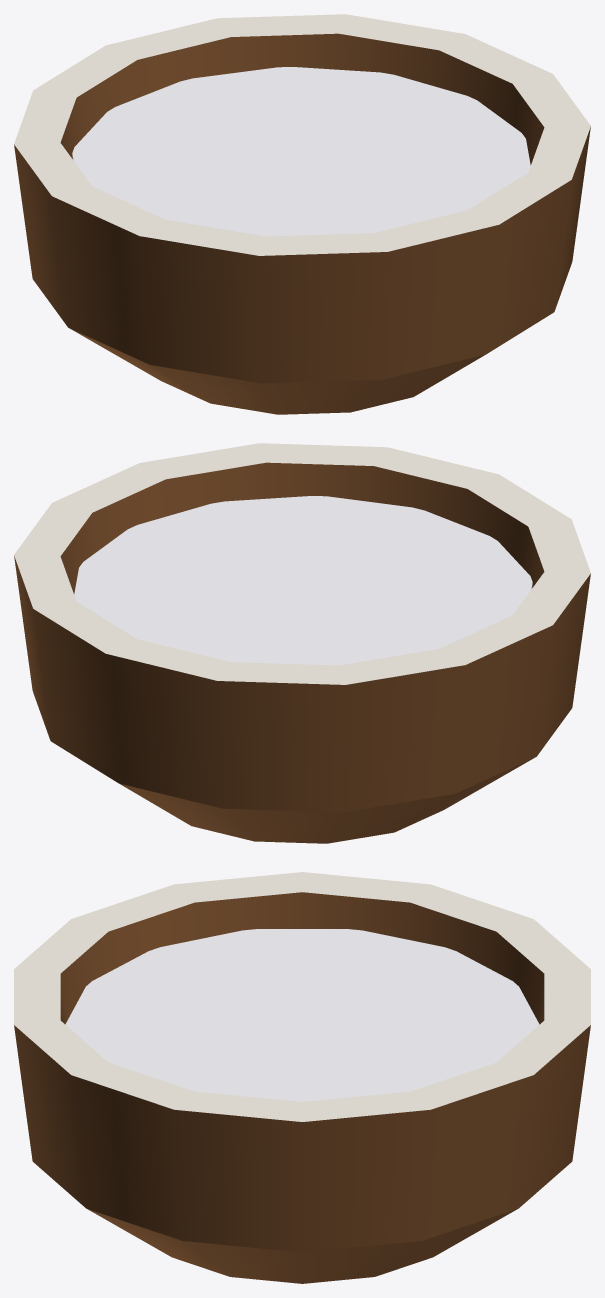
The model's file is CoconutHalf.fbx.
The picture shows the model from 3 angles, top to bottom: view 1: azimuth 30°, elevation 25°; view 2: azimuth 150°, elevation 25°; view 3: azimuth 270°, elevation 25°; orthographic projection. The views are drawn at different scales.
Parts seen in each view (by area): view 1: CoconutHalf; view 2: CoconutHalf; view 3: CoconutHalf.
Boxes of the visible parts, <box> form: CoconutHalf: <box>14,14,590,414</box>; CoconutHalf: <box>14,443,590,843</box>; CoconutHalf: <box>14,872,590,1283</box>.
Bounding box in the file's own units: 1.24 × 0.5 × 1.21.
Materials: 1 (1 with a texture image).
